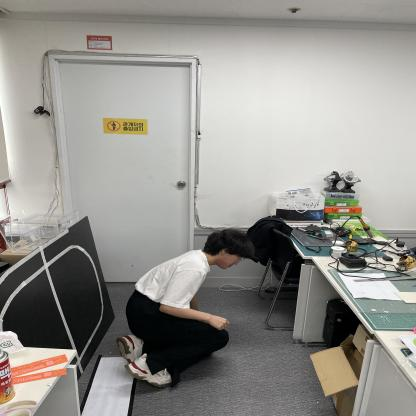fall: (119, 224, 254, 386)
